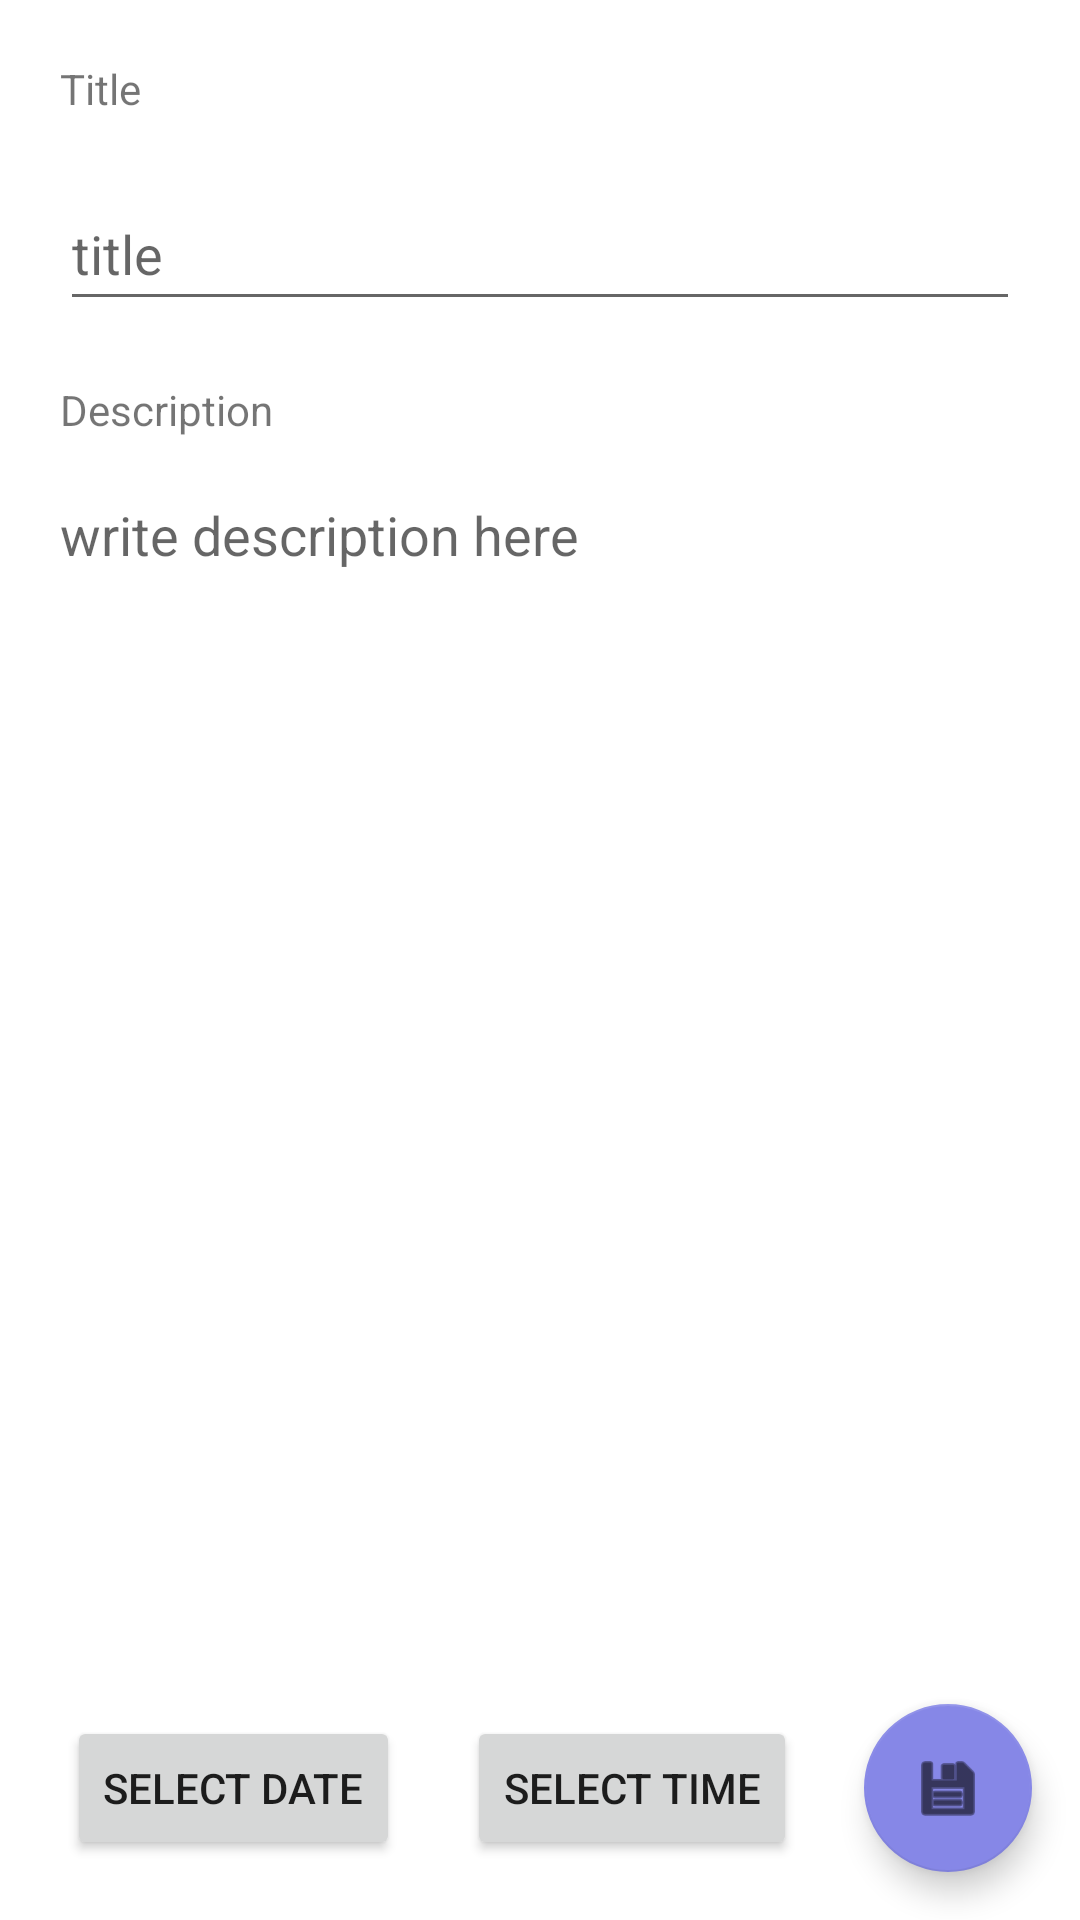

Screen size 1080×1920. Icon name, then its center in pixels as (x=x, y=y):
Save new note: (x=948, y=1788)
